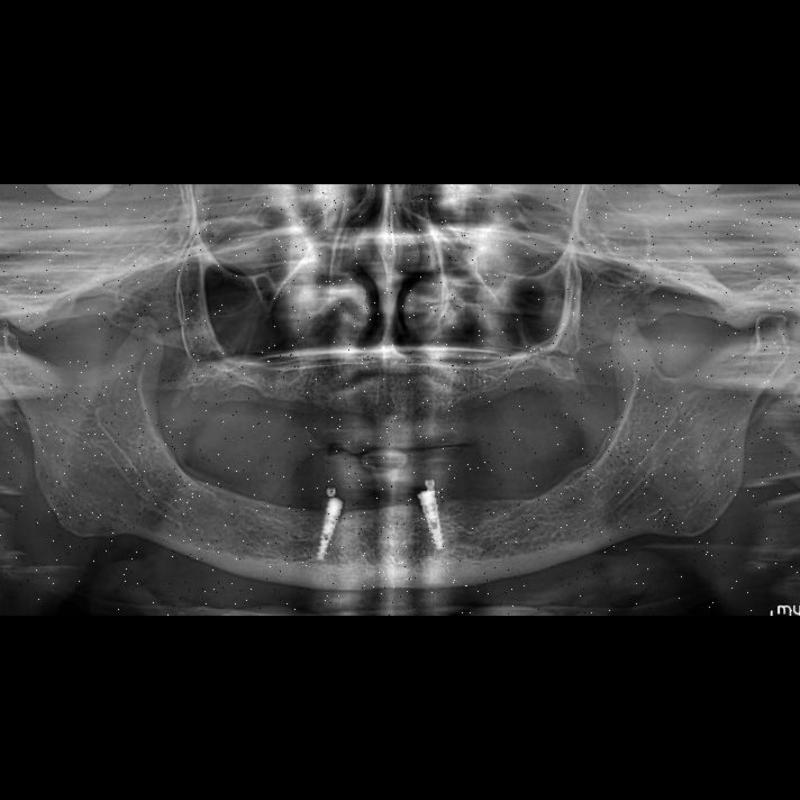NORIS: (314, 497, 344, 564), (419, 490, 447, 556)
